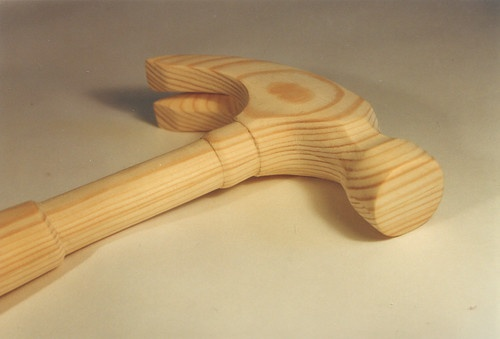hammer: (1, 51, 449, 299)
